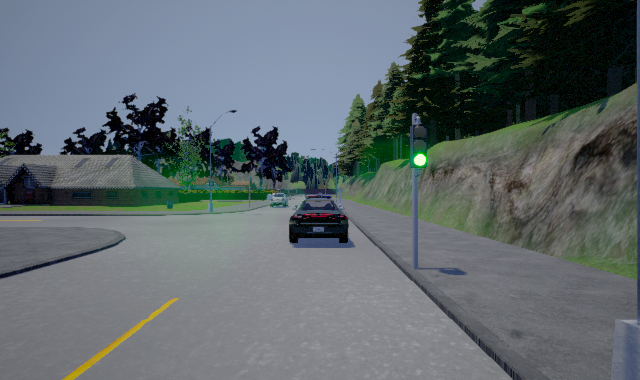traffic_light: (409, 122, 428, 168)
vehicle: (289, 193, 349, 243), (269, 193, 289, 208)
